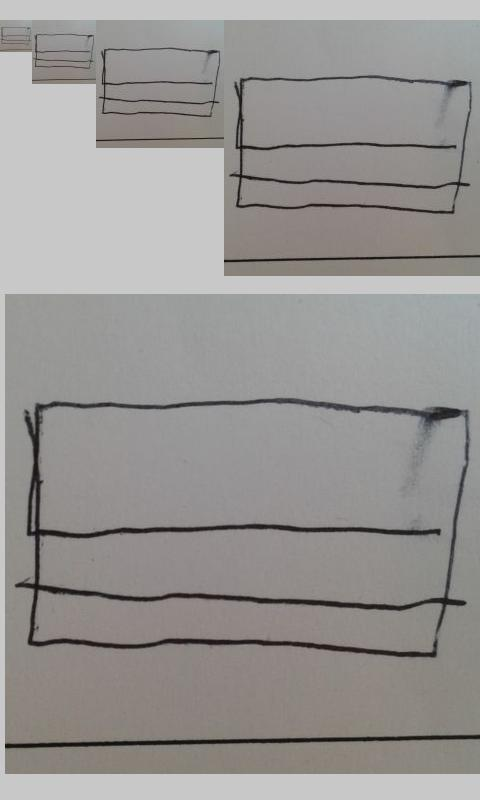list_view: (25, 398, 472, 663), (234, 71, 474, 217), (101, 47, 221, 118), (34, 32, 95, 71), (1, 25, 32, 45)
